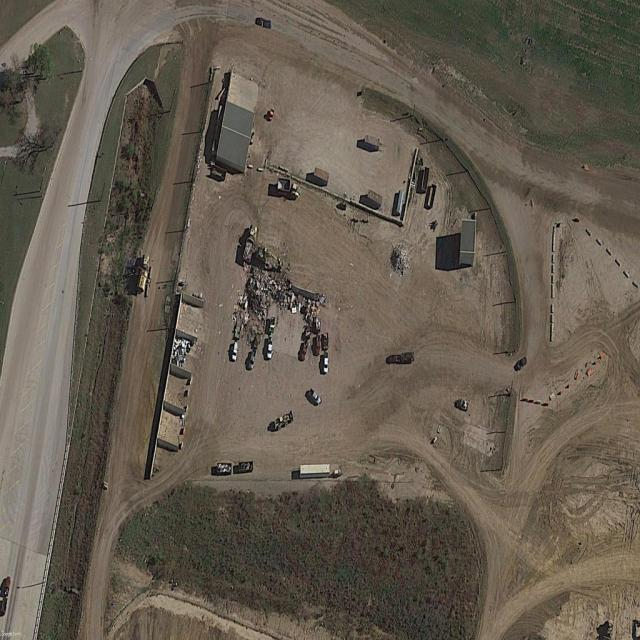dump_site: (232, 264, 303, 343), (171, 334, 194, 371)
